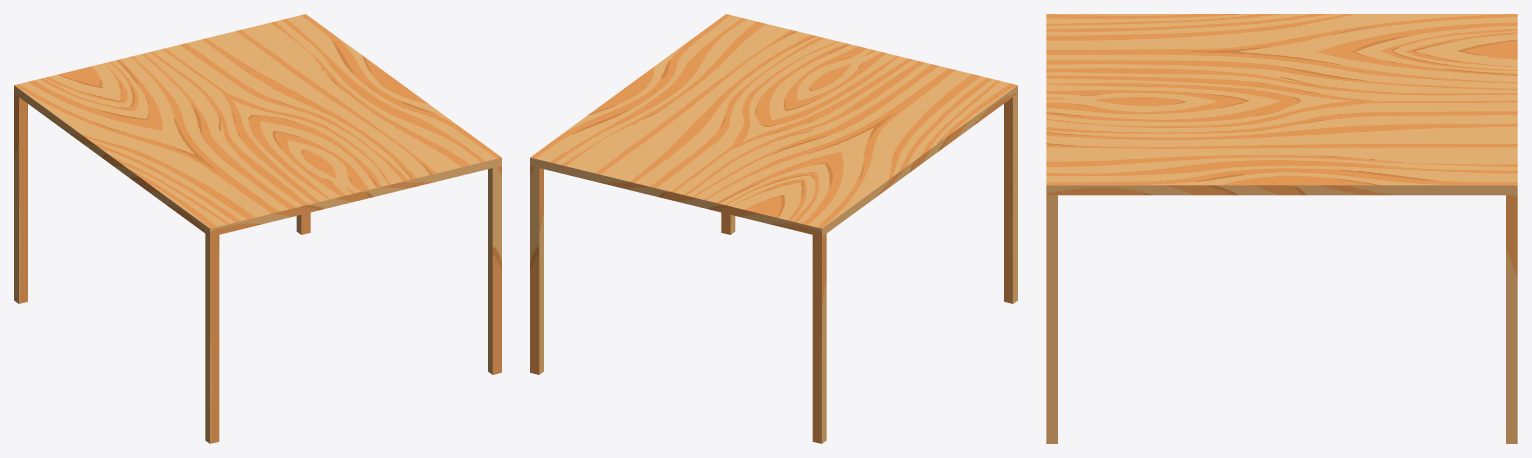
Rendered from Table_01.fbx.
The picture shows the model from 3 angles, left to right: view 1: azimuth 30°, elevation 25°; view 2: azimuth 150°, elevation 25°; view 3: azimuth 270°, elevation 25°; orthographic projection. The views are drawn at different scales.
Visible parts, largest first — view 1: Table_01; view 2: Table_01; view 3: Table_01.
Boxes of the visible parts, x1,y1,x2,y2 form: Table_01: (14,14,501,443); Table_01: (530,14,1017,443); Table_01: (1046,14,1517,443).
Size of the model in its own units: 128 by 90.38 by 149.
